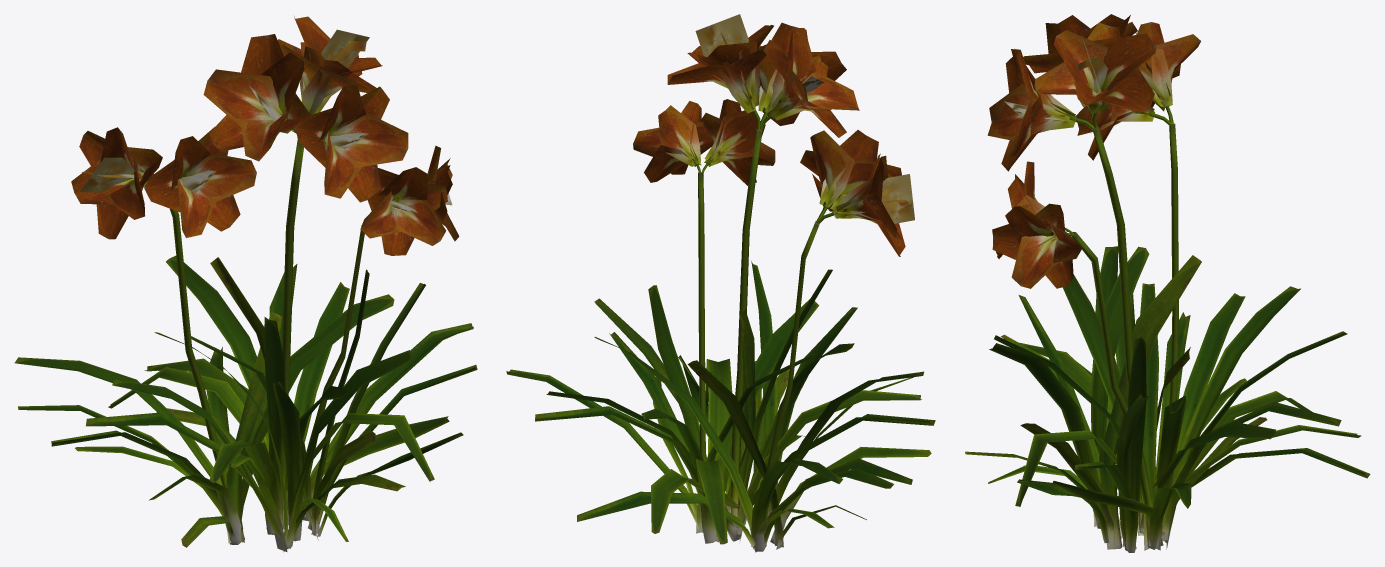
The model's file is Amaryllis_bush_long_peach.glb.
3 views of the same model, side by side, from view 1: azimuth 30°, elevation 25°; view 2: azimuth 150°, elevation 25°; view 3: azimuth 270°, elevation 25° (orthographic). The views are drawn at different scales.
Visible parts, largest first — view 1: bush; view 2: bush; view 3: bush.
Boxes of the visible parts, x1=… form: bush: x1=14, y1=16, x2=477, y2=552; bush: x1=506, y1=14, x2=935, y2=552; bush: x1=965, y1=14, x2=1370, y2=552.
Size of the model in its own units: 2.94 by 3.42 by 2.41.
Materials: 1 (1 with a texture image).
